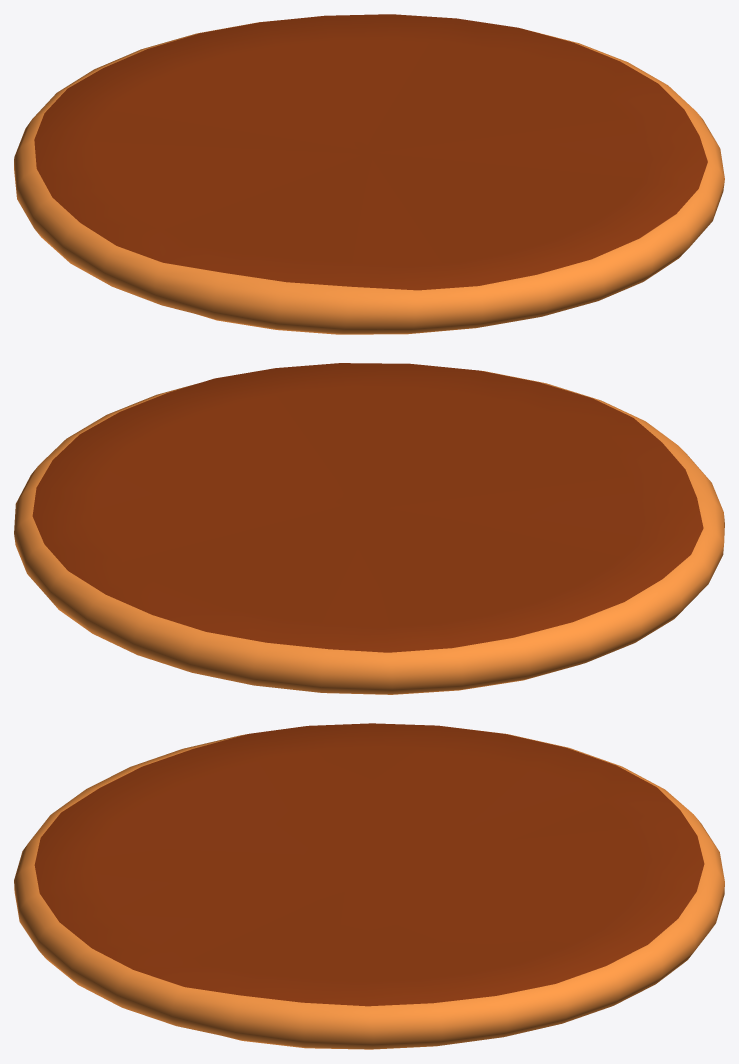
The model's file is pancake.fbx.
3 renders of one model, top to bottom at view 1: azimuth 30°, elevation 25°; view 2: azimuth 150°, elevation 25°; view 3: azimuth 270°, elevation 25°, orthographic.
Visible parts, largest first — view 1: pancake; view 2: pancake; view 3: pancake.
Boxes of the visible parts, box(x1,y1,x2,y2) form: pancake: box(14, 14, 724, 334); pancake: box(14, 363, 724, 694); pancake: box(14, 723, 724, 1049).
Bounding box in the file's own units: 19.2 × 1.4 × 19.2.
